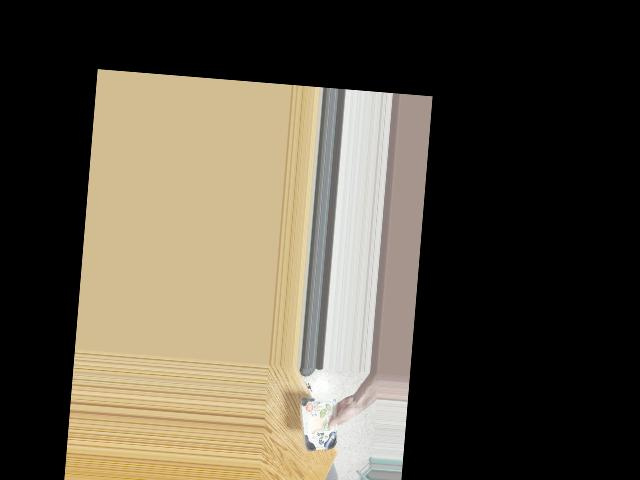cheese: (303, 400, 338, 451)
